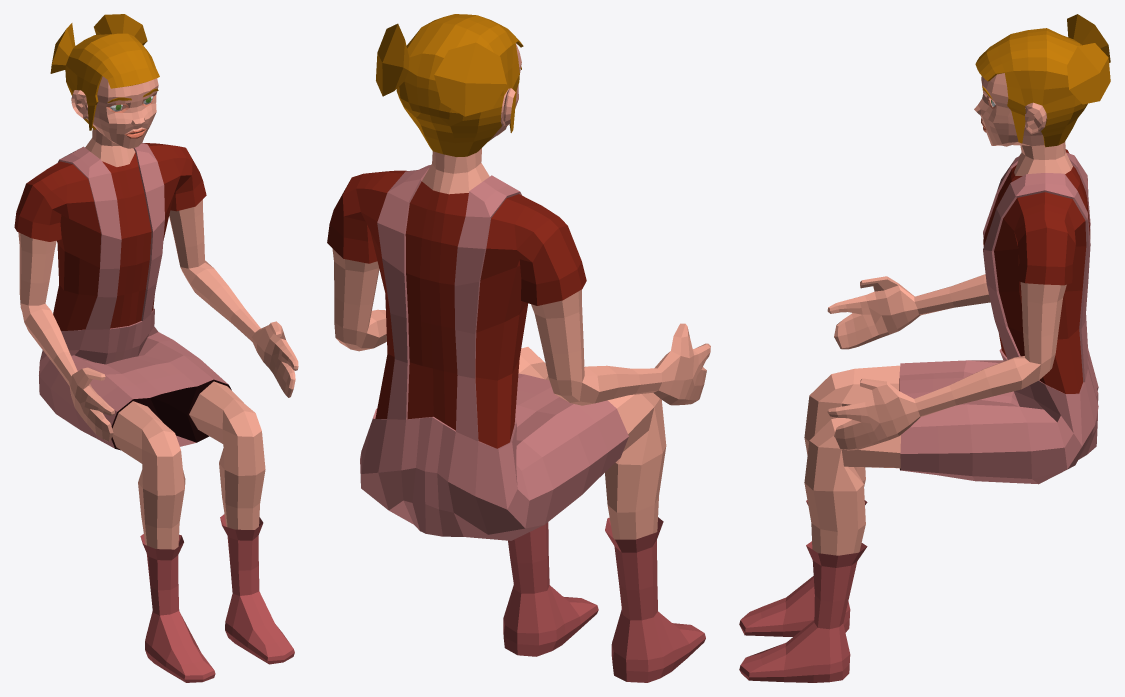
Rendered from Child_B_Sit.fbx.
3 renders of one model, left to right at view 1: azimuth 30°, elevation 25°; view 2: azimuth 150°, elevation 25°; view 3: azimuth 270°, elevation 25°, orthographic. The views are drawn at different scales.
Visible parts, largest first — view 1: Child_B_Sit; view 2: Child_B_Sit; view 3: Child_B_Sit.
Boxes of the visible parts, left/top/right/bottom form: Child_B_Sit: left=14, top=14, right=298, bottom=682; Child_B_Sit: left=327, top=14, right=710, bottom=682; Child_B_Sit: left=739, top=14, right=1110, bottom=682.
Bounding box in the file's own units: 0.1752 × 0.4434 × 0.2405.
